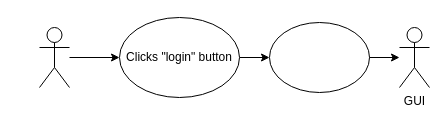
Image size: 447x126. Some labels were removed from this diagram. The shapes that lost their labels are listed below. From the top down, each one's box as (x1, y1, x2, y2) in pixels, then its label:
(38, 26, 70, 88): Moodipy User
(268, 22, 370, 92): Type in credentials
